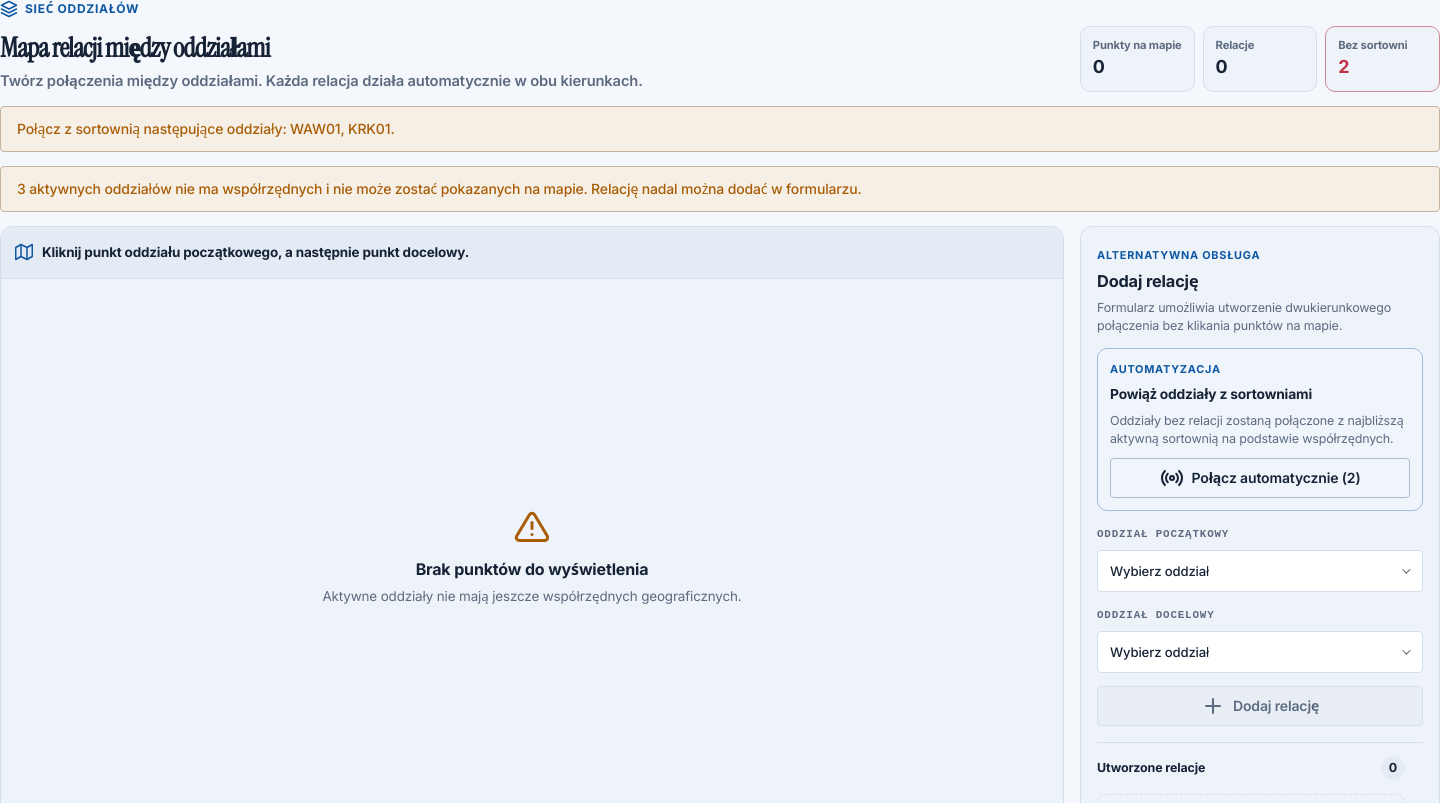
Scenario: DepartmentRelationsMap › offers automatic assignment in the editor and stages the generated relations
The image size is (1440, 803).
Click the button "Połącz automatycznie (2)" at x=1260, y=478, box [1110,458,1410,498]
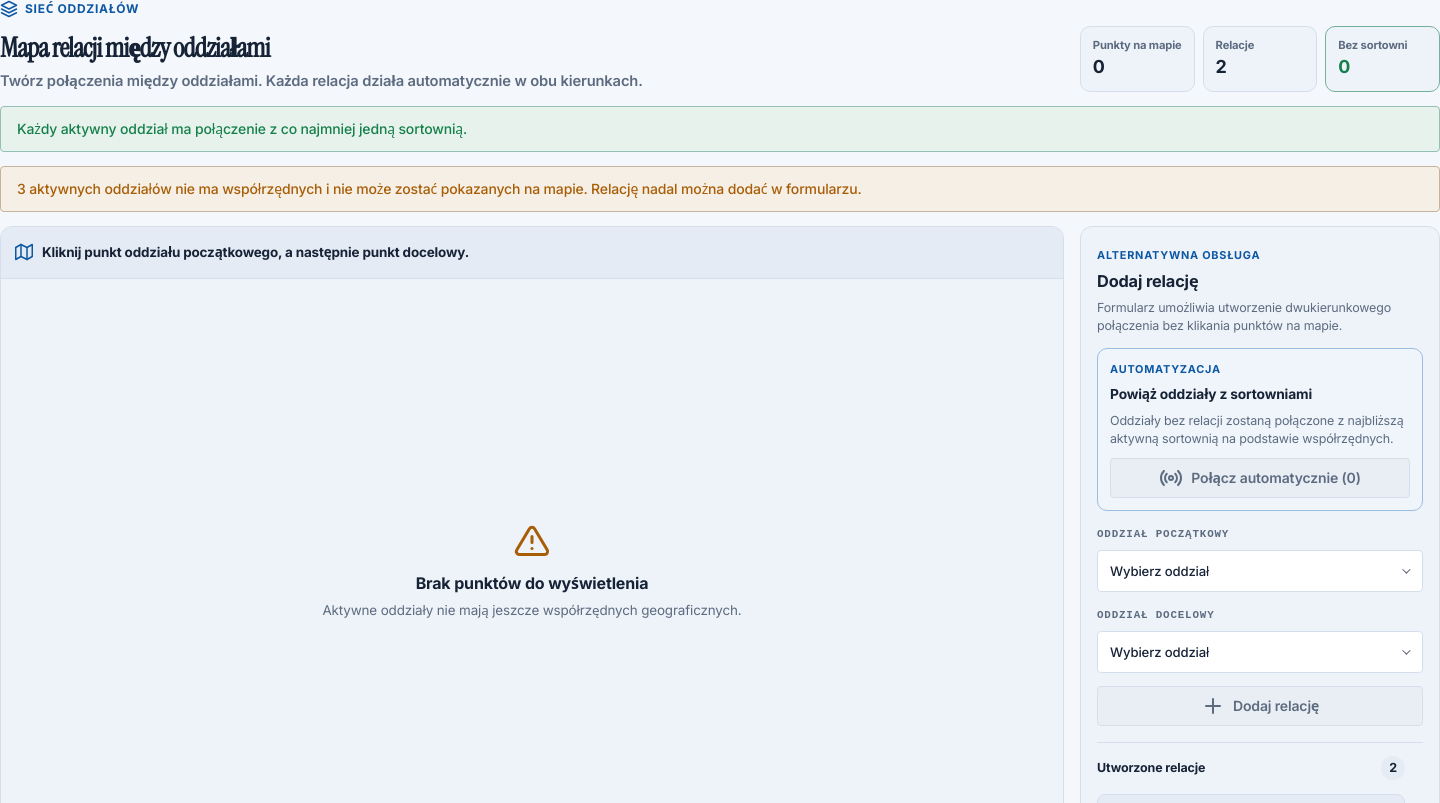
Expected: the text "Każdy aktywny oddział ma połączenie z co najmniej jedną sortownią." is shown, [17,120,467,137]
Expected: the text "2" in the row of "Utworzone relacje" is shown, [1389,760,1397,775]
